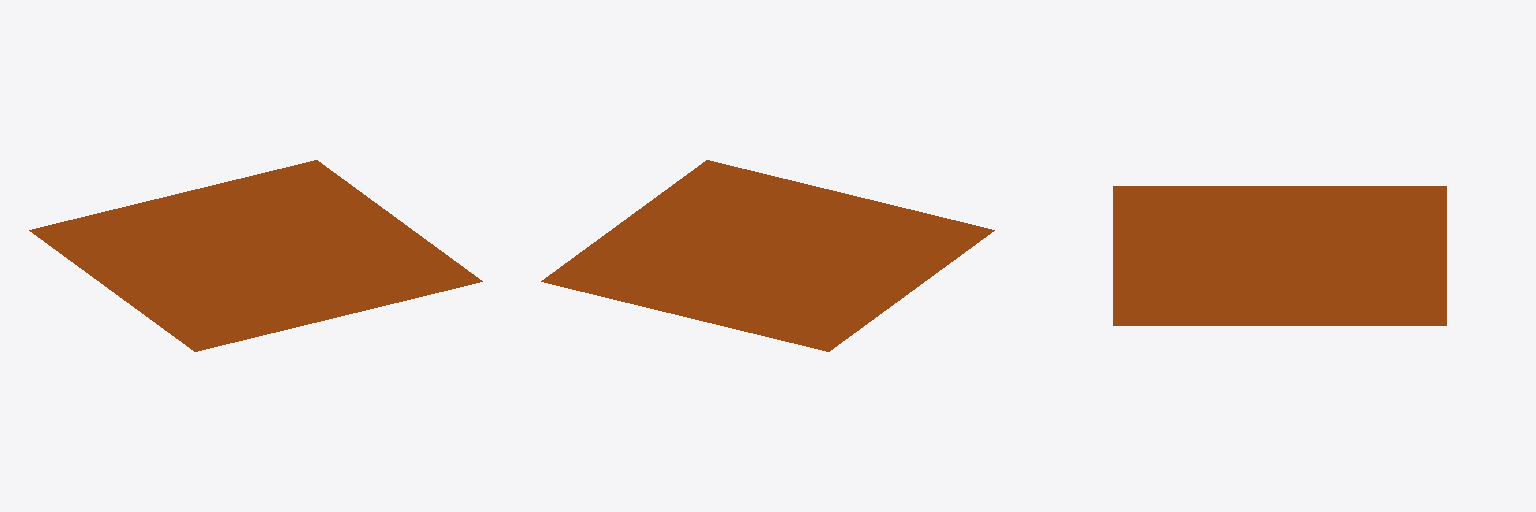
File: door.obj
3 renders of one model, left to right at view 1: azimuth 30°, elevation 25°; view 2: azimuth 150°, elevation 25°; view 3: azimuth 270°, elevation 25°, orthographic.
Parts seen in each view (by area): view 1: Box001; view 2: Box001; view 3: Box001.
Part boxes in pixels (bbox=[...]): Box001: bbox=[29, 160, 482, 351]; Box001: bbox=[541, 160, 994, 351]; Box001: bbox=[1113, 186, 1446, 325].
Size of the model in its own units: 200 by 0 by 200.